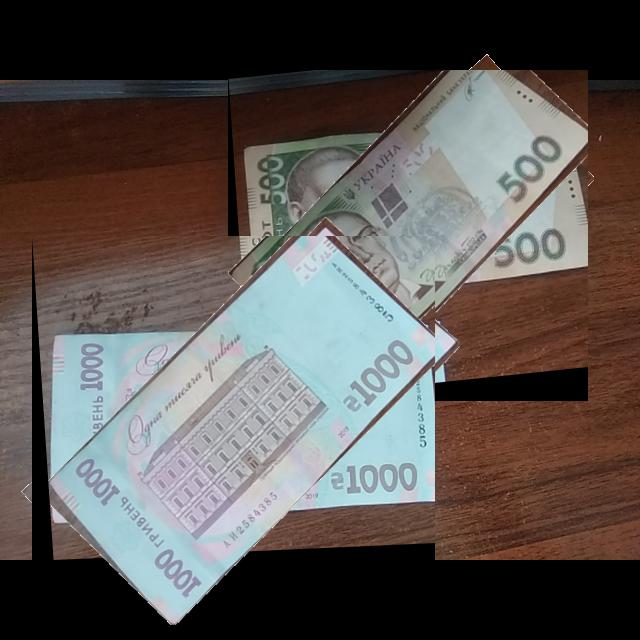1000uah: (45, 236, 436, 627)
500uah: (239, 70, 589, 394)
